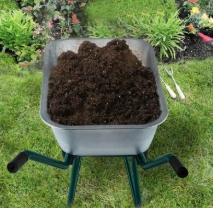BROUETTE: (6, 27, 213, 208)
